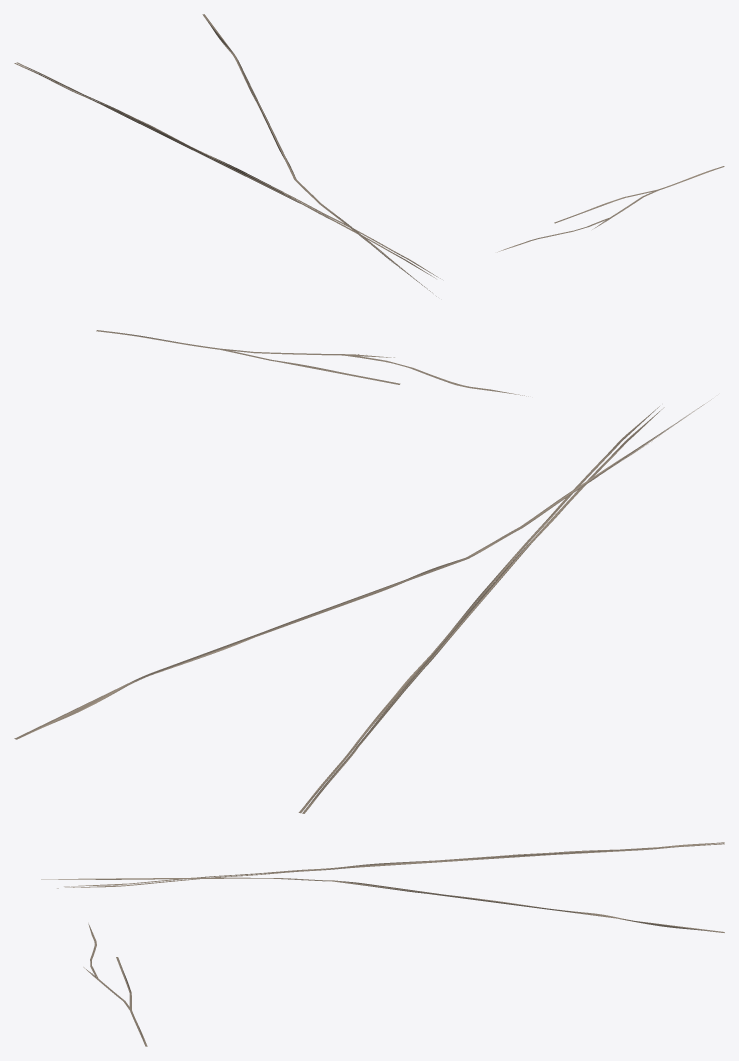
File: rail_0_3.glb
3 renders of one model, top to bottom at view 1: azimuth 30°, elevation 25°; view 2: azimuth 150°, elevation 25°; view 3: azimuth 270°, elevation 25°, orthographic. The views are drawn at different scales.
Parts seen in each view (by area): view 1: geometry_0; view 2: geometry_0; view 3: geometry_0.
Boxes of the visible parts, x1,y1,x2,y2 form: geometry_0: (14, 14, 724, 296); geometry_0: (14, 330, 711, 813); geometry_0: (41, 842, 724, 1046).
Size of the model in its own units: 783 by 12.72 by 1130.
